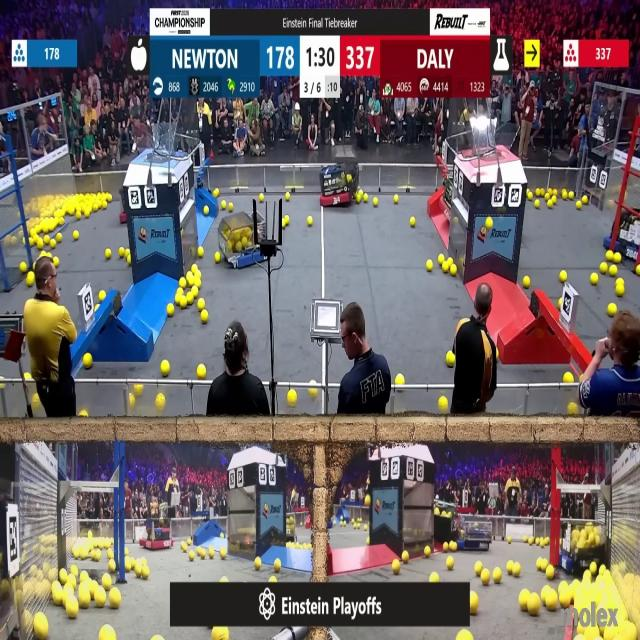ball_ground: (528, 596, 541, 616), (66, 599, 78, 618), (109, 590, 120, 609), (468, 594, 478, 614), (100, 626, 114, 640), (95, 592, 106, 608), (79, 592, 90, 608), (545, 596, 556, 611), (520, 592, 528, 611), (568, 404, 578, 418), (560, 594, 570, 608), (162, 360, 171, 375), (198, 363, 207, 378), (440, 396, 449, 411), (102, 574, 111, 588), (288, 390, 296, 405), (493, 568, 501, 583), (83, 353, 91, 368), (482, 569, 490, 584), (158, 394, 166, 409), (392, 560, 400, 574), (27, 273, 35, 287), (447, 352, 455, 366), (618, 283, 626, 296), (545, 566, 553, 579), (514, 562, 521, 576), (608, 304, 616, 316), (609, 266, 617, 278), (141, 567, 149, 579), (275, 559, 282, 572), (474, 562, 481, 575), (564, 374, 573, 384), (460, 631, 470, 640), (430, 571, 438, 582), (395, 375, 403, 386), (18, 264, 26, 275), (308, 385, 316, 396), (401, 552, 408, 564), (447, 558, 454, 570), (202, 311, 209, 323), (168, 305, 175, 317), (108, 560, 115, 572), (123, 560, 130, 572), (61, 570, 68, 582), (190, 286, 198, 296), (177, 295, 185, 305), (80, 571, 88, 581), (134, 384, 142, 394), (507, 561, 513, 574), (524, 277, 531, 288), (560, 272, 567, 283), (600, 264, 607, 275), (615, 252, 622, 263), (536, 559, 543, 570), (254, 558, 260, 570), (592, 274, 598, 286), (199, 300, 205, 312), (179, 278, 186, 288), (105, 248, 112, 258), (198, 247, 205, 257), (186, 294, 193, 304), (451, 540, 458, 550), (71, 566, 78, 576), (451, 266, 457, 277), (424, 545, 430, 556), (100, 290, 106, 301), (220, 549, 226, 560), (356, 192, 362, 203), (136, 566, 142, 577), (193, 278, 200, 287), (187, 552, 194, 561), (185, 273, 192, 282), (411, 216, 417, 226), (282, 216, 288, 226), (606, 251, 612, 261), (108, 550, 114, 560), (49, 240, 56, 248), (126, 248, 133, 256), (215, 252, 220, 263), (308, 216, 314, 225), (204, 206, 210, 215), (444, 265, 450, 274), (534, 200, 540, 209), (57, 235, 63, 244), (227, 203, 233, 212), (55, 257, 61, 266), (34, 238, 40, 247), (201, 550, 207, 559), (427, 262, 432, 272), (445, 541, 450, 551), (76, 210, 81, 220), (213, 188, 220, 195), (58, 217, 65, 224), (568, 190, 574, 198), (362, 193, 368, 201), (127, 256, 133, 264), (79, 412, 87, 418), (527, 190, 533, 198), (220, 202, 226, 210), (284, 192, 290, 200), (102, 202, 108, 210), (182, 542, 188, 550), (372, 199, 377, 208), (118, 248, 123, 257), (563, 189, 568, 198), (440, 254, 445, 263), (271, 575, 277, 582), (220, 576, 227, 582), (177, 287, 183, 294), (83, 210, 89, 217), (365, 538, 371, 545), (528, 537, 534, 544), (546, 201, 551, 209), (449, 256, 454, 264), (44, 237, 49, 245), (74, 232, 78, 241), (636, 267, 640, 276), (210, 551, 214, 560), (535, 188, 540, 195), (584, 198, 589, 205), (363, 525, 368, 532), (123, 547, 128, 554), (394, 194, 398, 202), (576, 202, 580, 210), (191, 266, 195, 274), (108, 192, 112, 200), (152, 636, 160, 640), (553, 197, 557, 205), (544, 193, 549, 199), (41, 251, 46, 257), (259, 193, 263, 200), (0, 383, 4, 390), (524, 535, 528, 542), (507, 536, 511, 542), (187, 538, 191, 544), (220, 532, 224, 538)
goal: (465, 120, 521, 160), (130, 132, 188, 160)
robot_blue: (219, 213, 266, 271), (556, 519, 604, 573), (614, 209, 640, 265), (458, 513, 492, 551)
robot_red: (317, 162, 358, 206), (139, 517, 173, 550)
